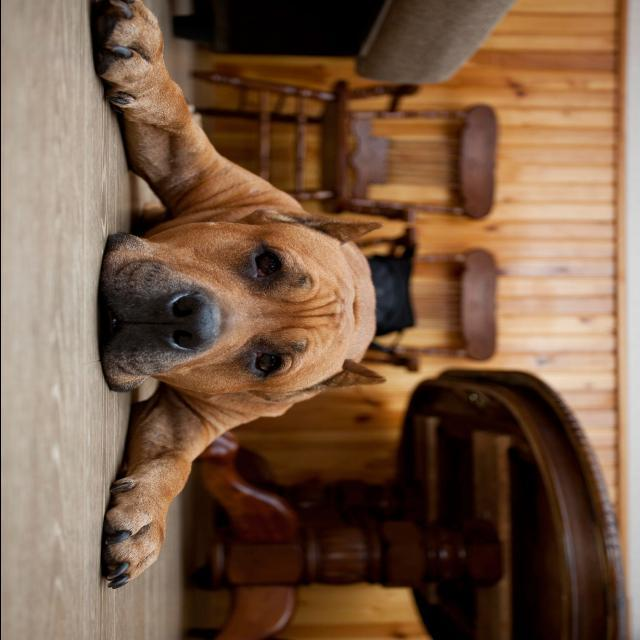Dogs: (87, 1, 393, 592)
